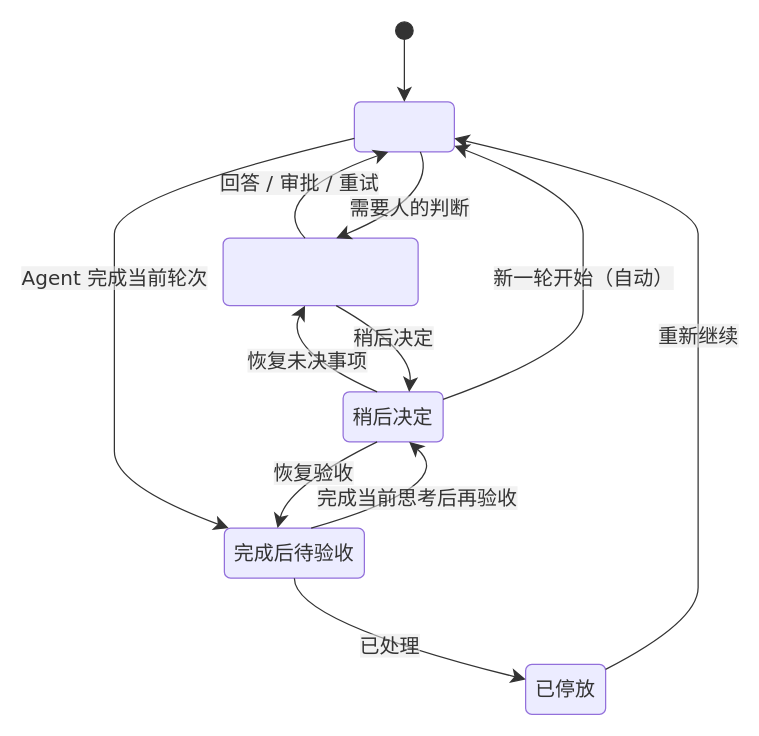
Some shapes in this 759 by 736 pixel diagram are drawn without their labels. Each missing label, with the centre of its shape:
安静执行: point 403,126
需要你处理 判断 / 审批 / 恢复: point 320,271
